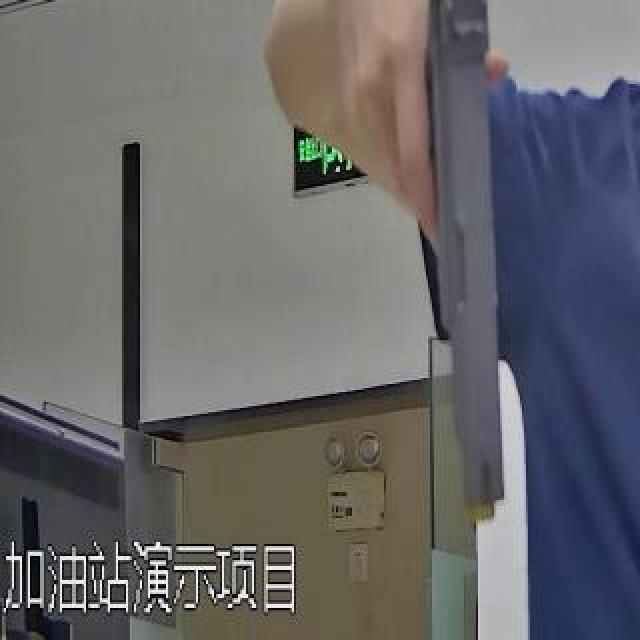Guns: (392, 0, 544, 538)
